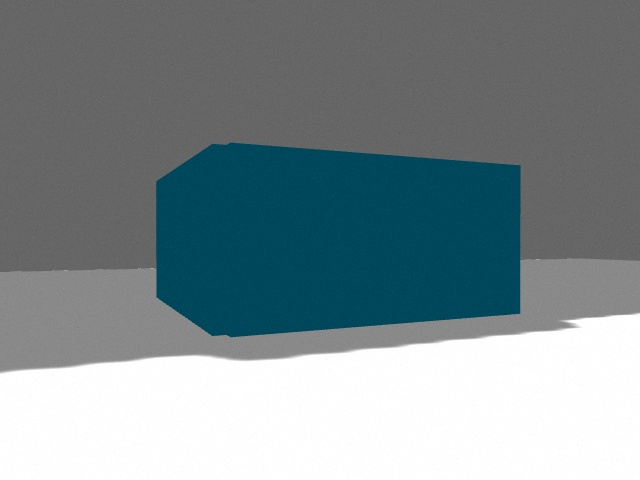blue_drop_zone: (156, 143, 521, 337)
